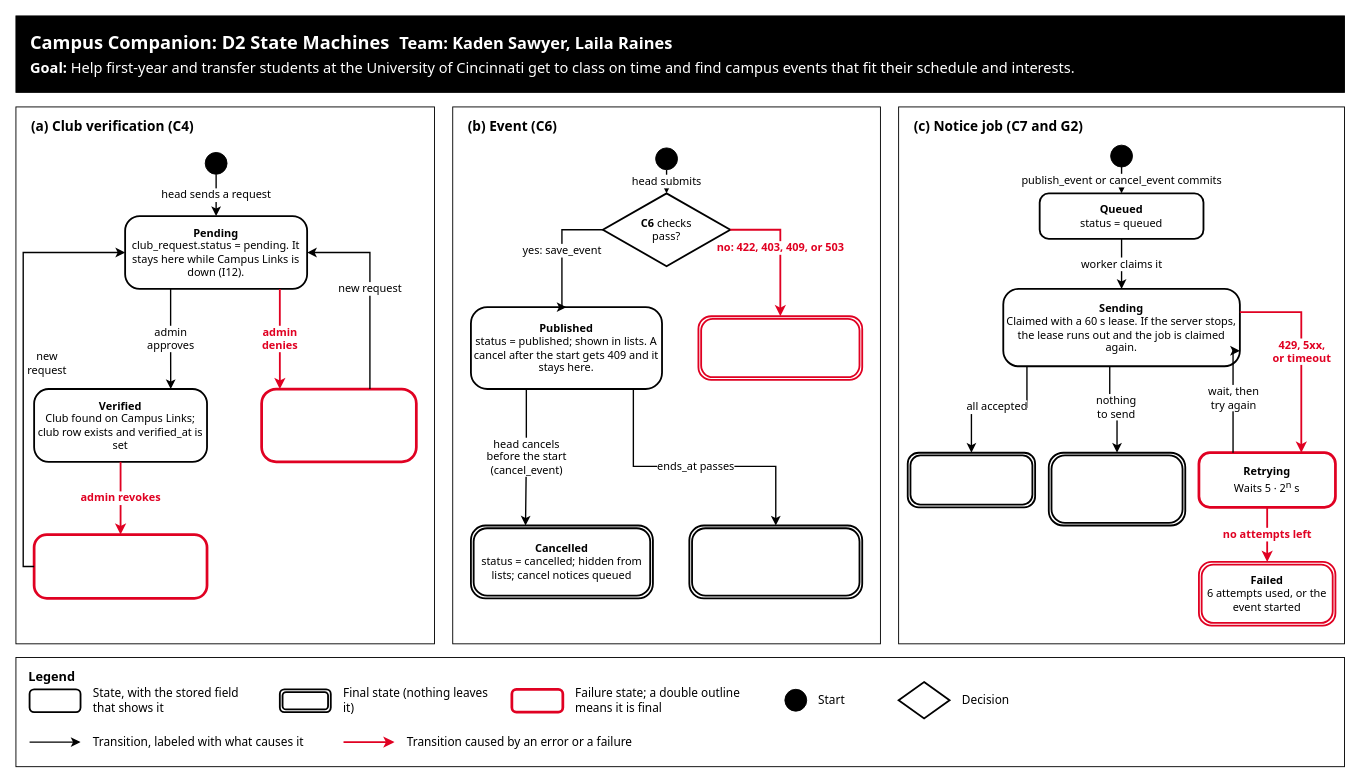
This 1360x783 diagram has some shape labels left out. Each missing label, with the centre of its shape:
Denied status = denied, with a decision note: pixel 338 425
Ended ends_at has passed. Not stored: lists filter by time.: pixel 775 561
Rejected Nothing stored, 0 notices: pixel 780 347
Revoked verified_at is empty again; posting returns 403: pixel 120 566
Sent Every batch accepted: pixel 971 479
Skipped Event cancelled or started, or no one to notify: pixel 1116 488
